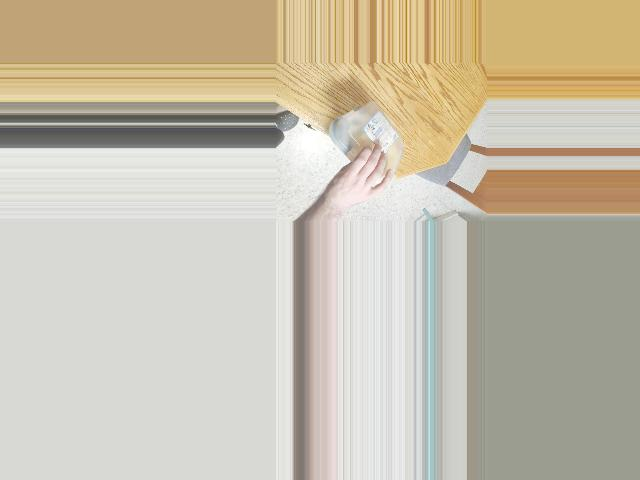cheese: (332, 100, 407, 194)
